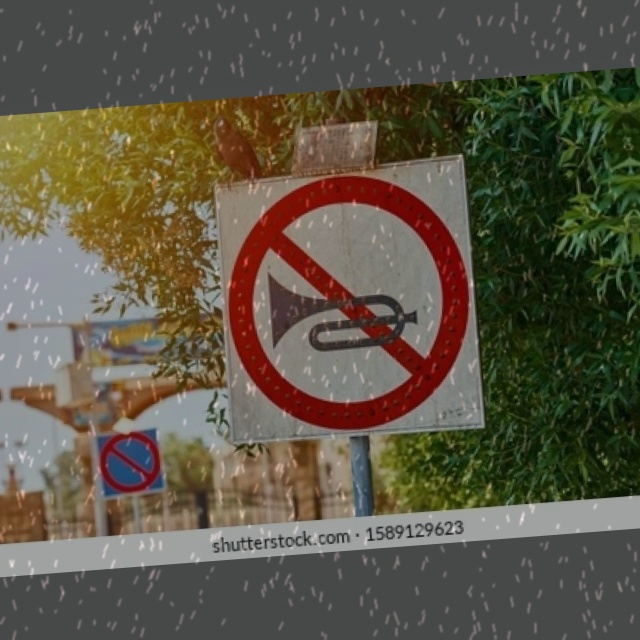Horn_Prohibited: (216, 164, 478, 439)
